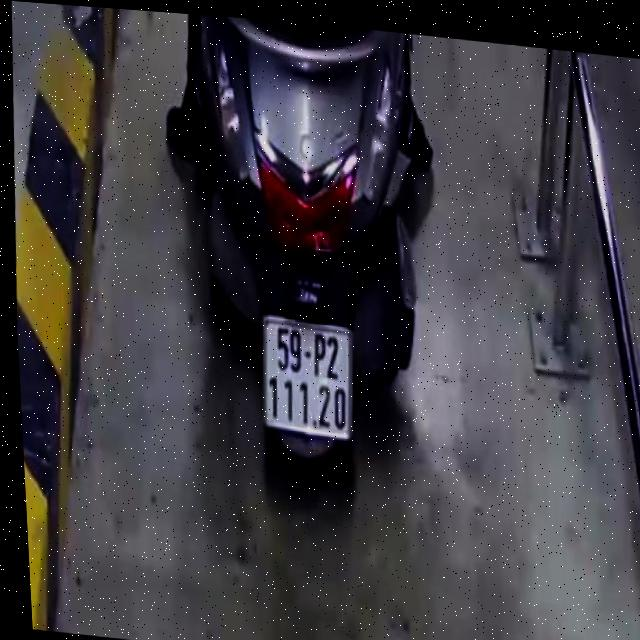motorcycle: (165, 12, 447, 495)
plate: (253, 311, 362, 446)
